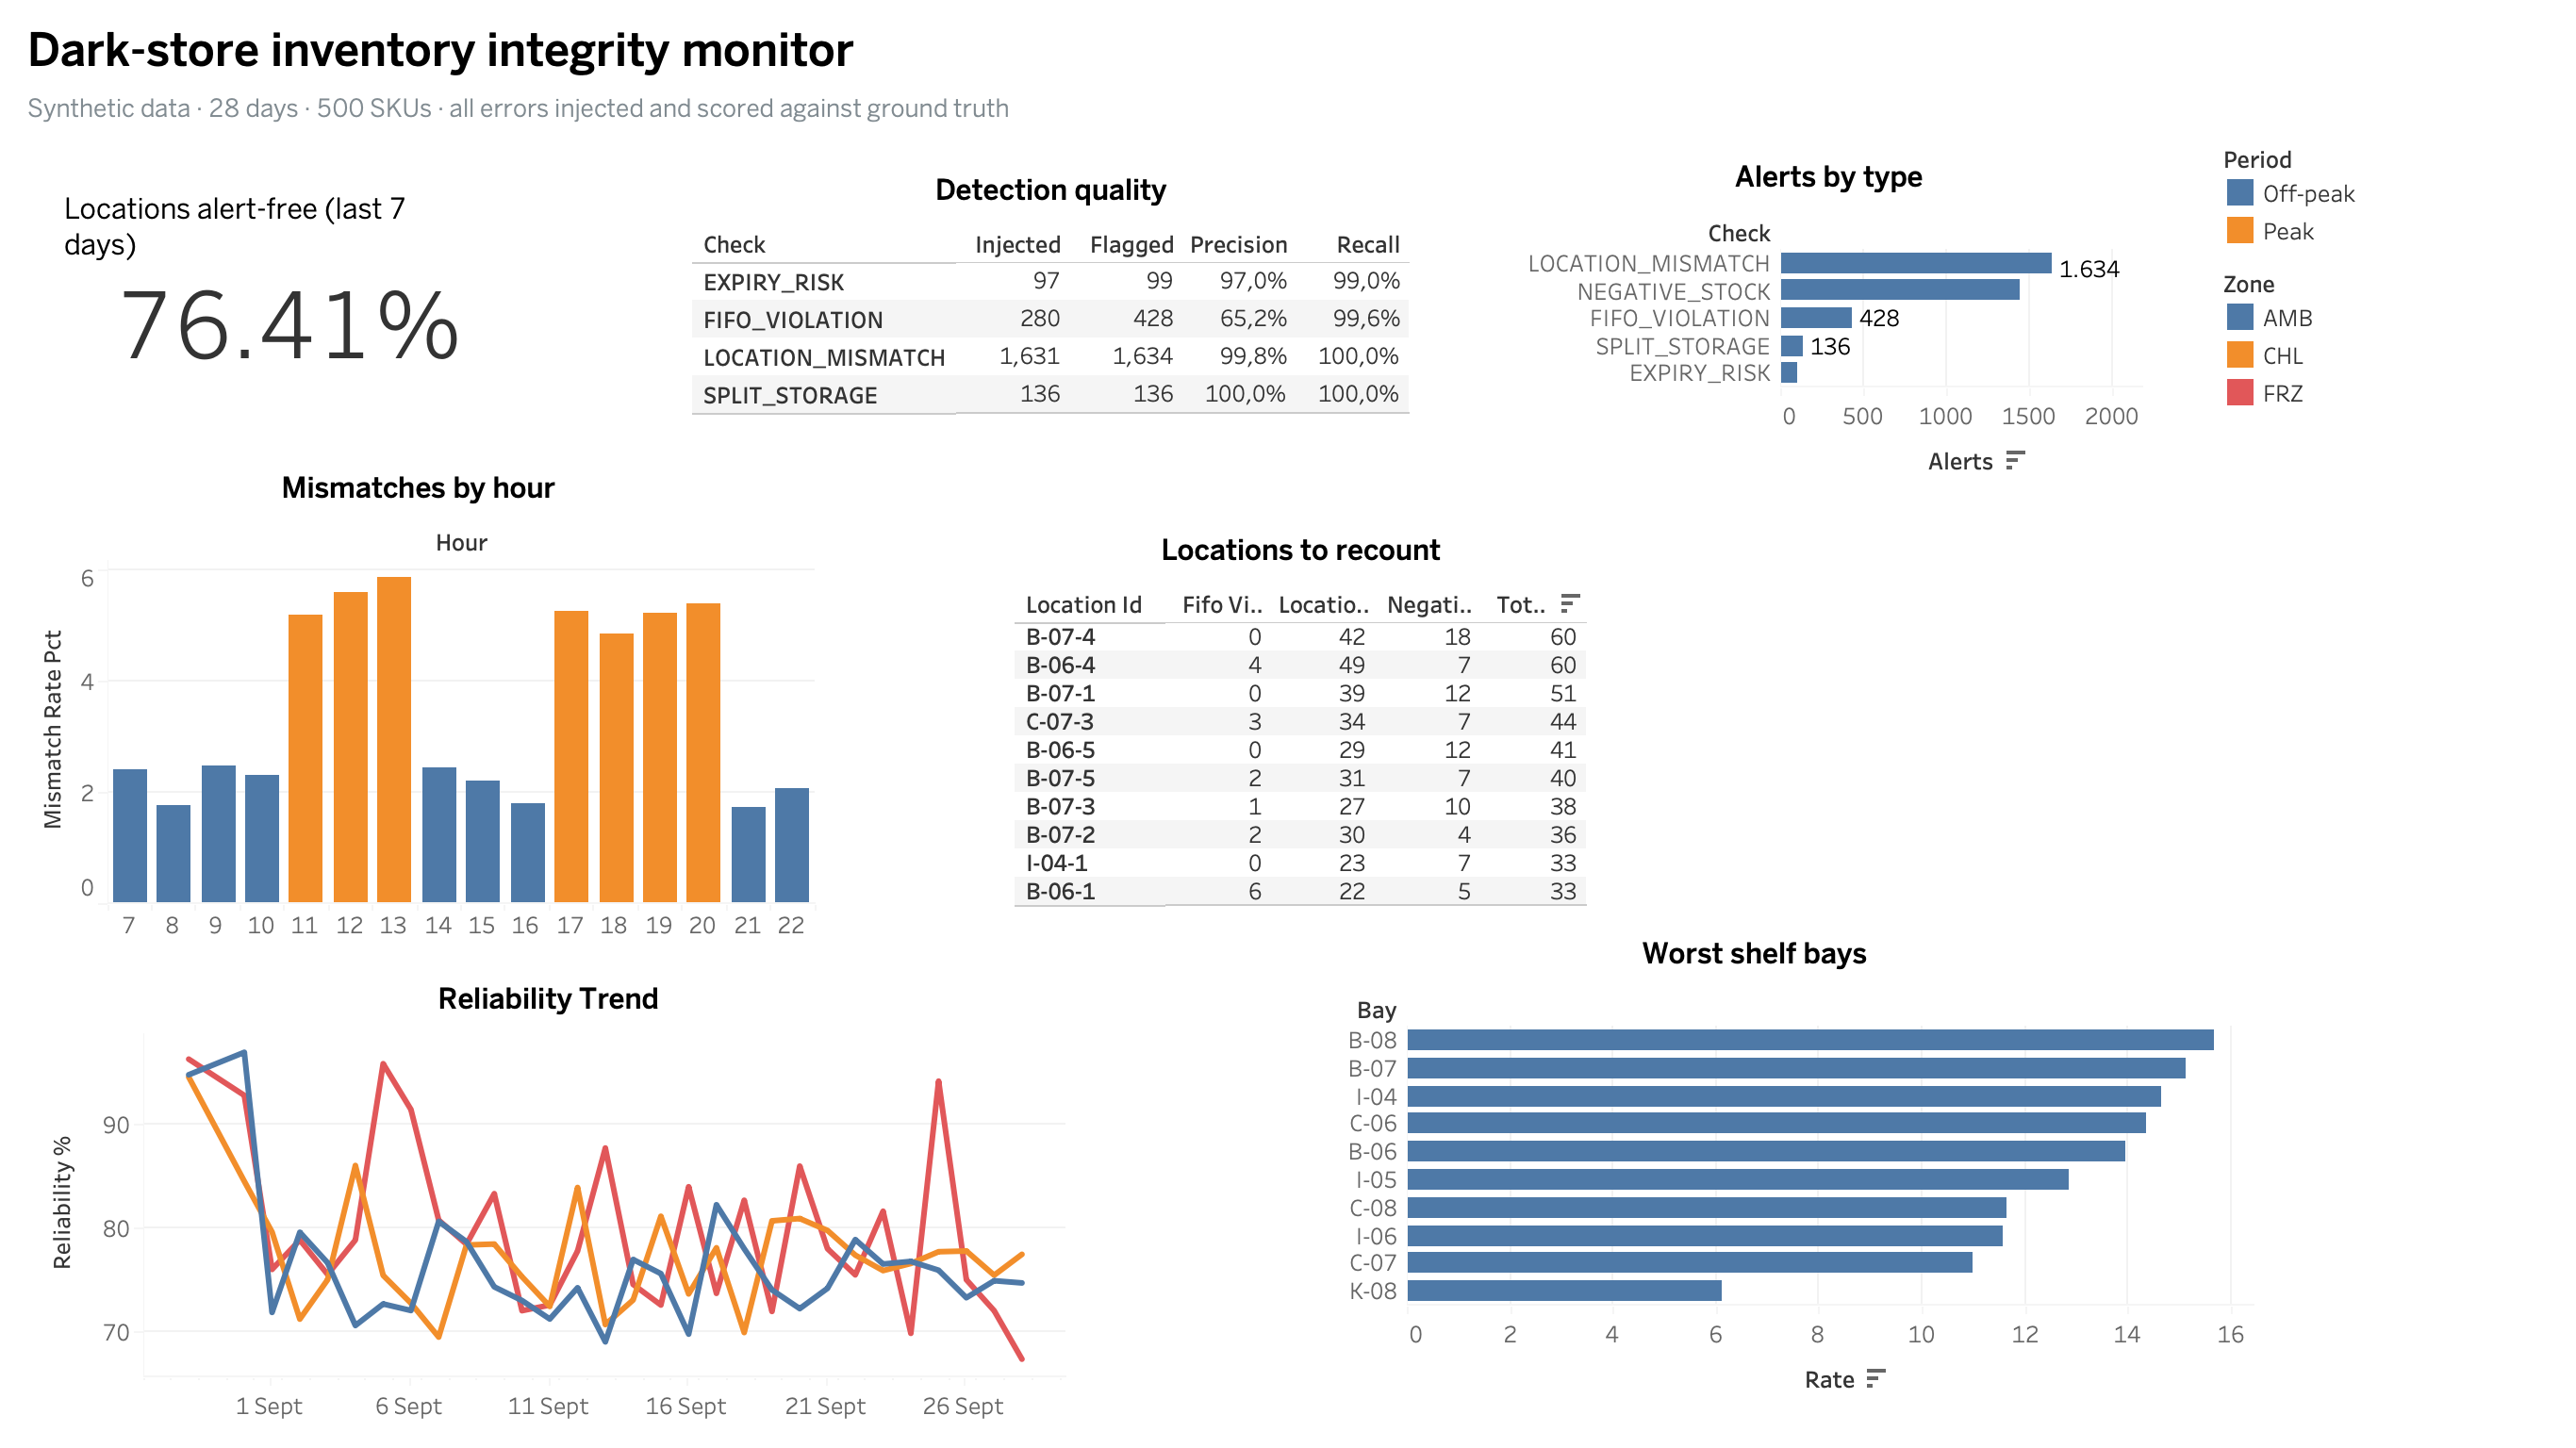

This screenshot's page, from the dashboard's own definition file:
{"tool":"tableau","page":{"name":"Dashboard 1","canvas":[1366,768],"ordinal":0},"visuals":[{"type":"title","box":[8,8,1350,37]},{"type":"text","box":[8,45,1350,25]},{"type":"legend","title":"Mismatches by hour","param":"[federated.0kkvc4m0kg3cn4140qir80rp8r8n].[none:Calculation_3278116048445440:nk]","box":[1174,70,184,66]},{"type":"worksheet","title":"Alerts by type","mark":"Automatic","rows":["check"],"cols":["alerts.csv_9CF9860ED1114729B05B4EBFB50E8828"],"box":[804,79,332,181]},{"type":"worksheet","title":"Detection quality","mark":"Automatic","rows":["check"],"box":[367,86,393,170]},{"type":"worksheet","title":"Reliability KPI","mark":"Automatic","box":[30,95,220,102]},{"type":"legend","title":"Reliability Trend","param":"[federated.0x7iku20lkmv9f14jug12131qq6r].[none:zone:nk]","box":[1174,136,184,86]},{"type":"worksheet","title":"Mismatches by hour","mark":"Automatic","rows":["mismatch_rate_pct"],"cols":["ts"],"box":[12,244,420,256]},{"type":"worksheet","title":"Locations to recount","mark":"Automatic","rows":["location_id"],"box":[538,277,304,204]},{"type":"worksheet","title":"Worst shelf bays","mark":"Automatic","rows":["bay"],"cols":["rate"],"box":[666,491,529,256]},{"type":"worksheet","title":"Reliability Trend","mark":"Automatic","rows":["reliability_pct"],"cols":["date"],"box":[17,515,548,245]}]}

Visuals, with their boxes in screenshot pixels (x1, y1, x2, y2), scaled from the page's 1366x768 canvas onto the 2576x1448 screenshot:
title: 15/15/2561/85
text: 15/85/2561/132
"Mismatches by hour" legend: 2214/132/2561/256
"Alerts by type" worksheet: 1516/149/2142/490
"Detection quality" worksheet: 692/162/1433/483
"Reliability KPI" worksheet: 57/179/471/371
"Reliability Trend" legend: 2214/256/2561/419
"Mismatches by hour" worksheet: 23/460/815/943
"Locations to recount" worksheet: 1015/522/1588/907
"Worst shelf bays" worksheet: 1256/926/2254/1408
"Reliability Trend" worksheet: 32/971/1065/1433
